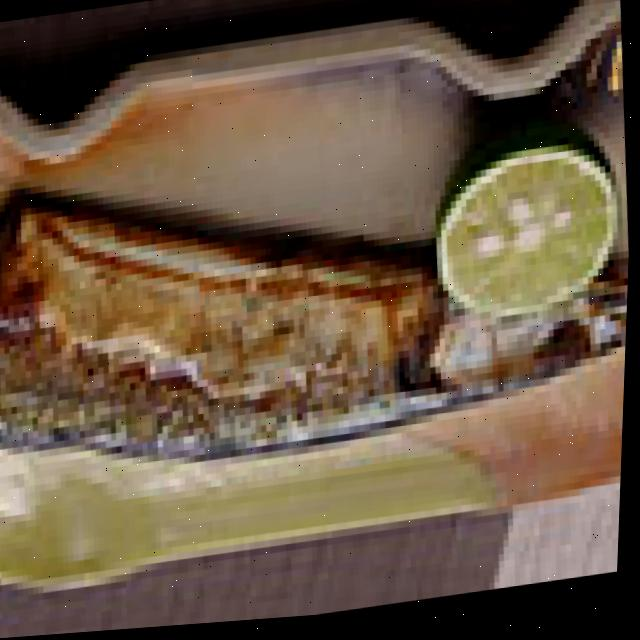熟制海鲜: (0, 118, 635, 533)
